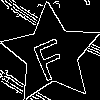F: (26, 28, 71, 83)
